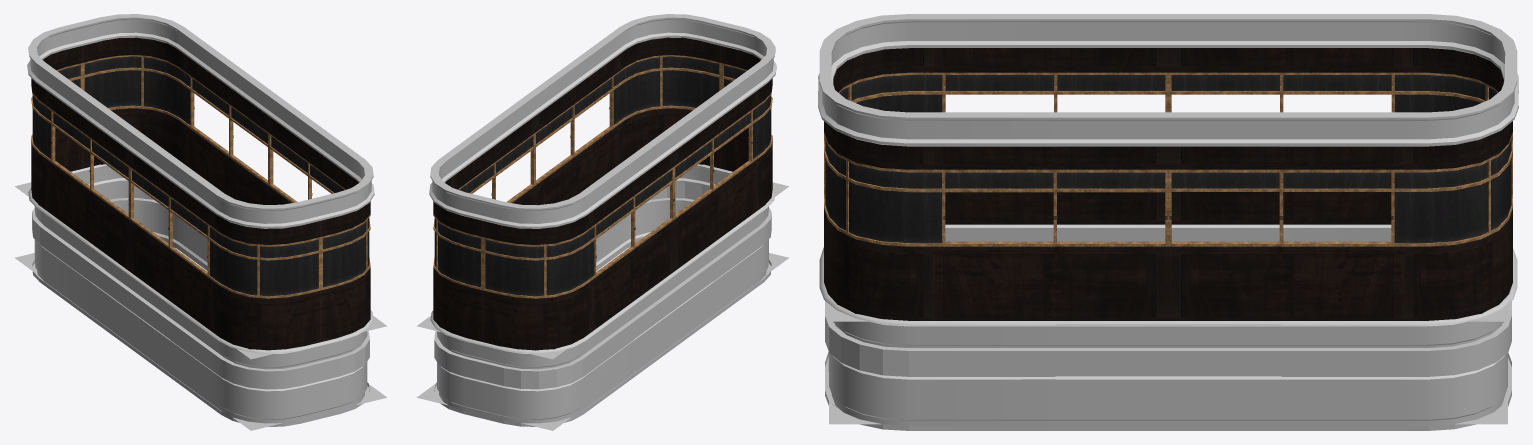
Rendered from engineroom_balcony_office_center.DAE.
3 views of the same model, side by side, from view 1: azimuth 30°, elevation 25°; view 2: azimuth 150°, elevation 25°; view 3: azimuth 270°, elevation 25° (orthographic). The views are drawn at different scales.
Visible parts, largest first — view 1: balcony_straight_metal007, tesla_dressing_cdoor_029, Plane005, Box021, balcony_straight_bricks003, balcony_corner_inner_floor003; view 2: balcony_straight_metal007, tesla_dressing_cdoor_029, Plane005, Box021, balcony_straight_bricks003, balcony_corner_inner_floor003; view 3: balcony_straight_metal007, tesla_dressing_cdoor_029, Plane005, balcony_straight_bricks003, Box021, balcony_corner_inner_floor003.
Part boxes in pixels (x1=…): balcony_straight_metal007: x1=27, y1=14, x2=374, y2=426; tesla_dressing_cdoor_029: x1=31, y1=37, x2=370, y2=350; Plane005: x1=32, y1=56, x2=369, y2=296; Box021: x1=31, y1=55, x2=370, y2=298; balcony_straight_bricks003: x1=32, y1=182, x2=369, y2=389; balcony_corner_inner_floor003: x1=14, y1=182, x2=387, y2=430; balcony_straight_metal007: x1=429, y1=14, x2=776, y2=426; tesla_dressing_cdoor_029: x1=433, y1=37, x2=772, y2=350; Plane005: x1=434, y1=56, x2=771, y2=296; Box021: x1=433, y1=55, x2=772, y2=298; balcony_straight_bricks003: x1=434, y1=182, x2=771, y2=389; balcony_corner_inner_floor003: x1=416, y1=182, x2=789, y2=430; balcony_straight_metal007: x1=818, y1=14, x2=1518, y2=430; tesla_dressing_cdoor_029: x1=824, y1=48, x2=1512, y2=320; Plane005: x1=825, y1=75, x2=1511, y2=243; balcony_straight_bricks003: x1=825, y1=316, x2=1511, y2=376; Box021: x1=824, y1=72, x2=1512, y2=246; balcony_corner_inner_floor003: x1=829, y1=304, x2=1507, y2=424.
Size of the model in its own units: 4.38 by 6.15 by 12.38.
